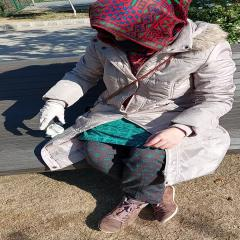gloved: (36, 99, 66, 131)
not-gloved: (145, 129, 183, 151)
